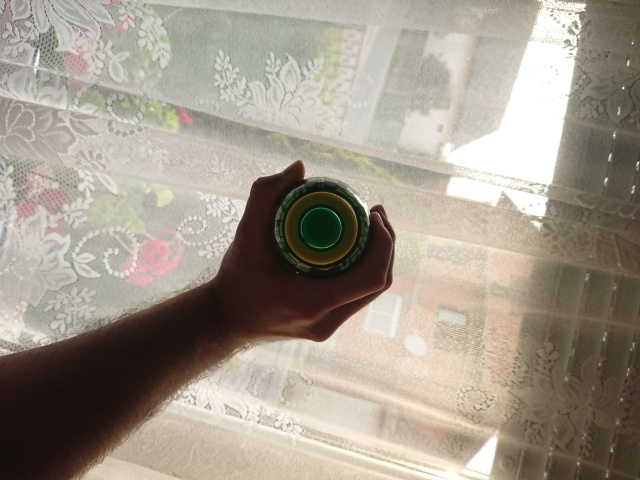Vindi Iso Sport Lemon-Grapefruit 500mL: (264, 173, 374, 283)
